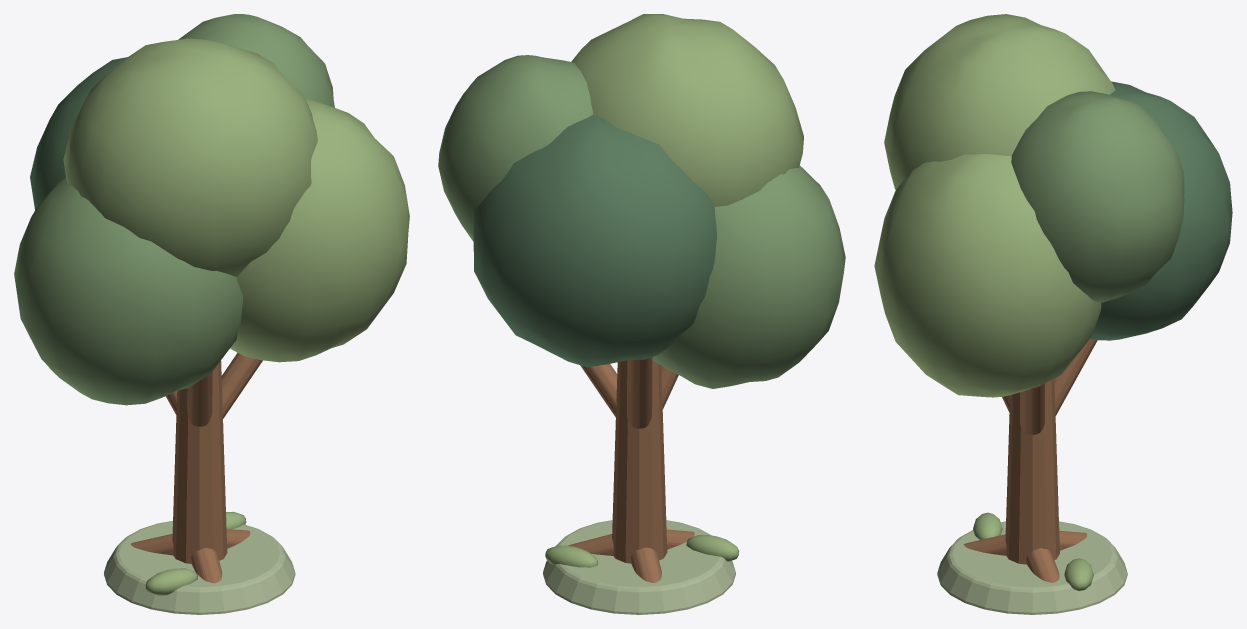
File: round_tree.glb
3 renders of one model, left to right at view 1: azimuth 30°, elevation 25°; view 2: azimuth 150°, elevation 25°; view 3: azimuth 270°, elevation 25°, orthographic.
Visible parts, largest first — view 1: Tree • sculpted foliage 03, Tree • sculpted foliage 00, Tree • sculpted foliage 01, Tree • soil mound, Tree • trunk, Tree • sculpted foliage 04, Tree • sculpted foliage 02, Tree • branch, Tree • branch.002, Tree • ground leaf, Tree • root.002, Tree • root.001; view 2: Tree • sculpted foliage 02, Tree • sculpted foliage 03, Tree • sculpted foliage 00, Tree • sculpted foliage 04, Tree • soil mound, Tree • trunk, Tree • branch.001, Tree • branch, Tree • ground leaf, Tree • ground leaf.001, Tree • root.001, Tree • root; view 3: Tree • sculpted foliage 01, Tree • sculpted foliage 04, Tree • sculpted foliage 03, Tree • sculpted foliage 02, Tree • soil mound, Tree • trunk, Tree • branch, Tree • branch.001, Tree • root, Tree • ground leaf.001, Tree • ground leaf, Tree • root.002.
Part boxes in pixels (box(x1,y1,x2,y2)): Tree • sculpted foliage 03: box(63, 38, 317, 276); Tree • sculpted foliage 00: box(14, 177, 242, 405); Tree • sculpted foliage 01: box(230, 99, 409, 362); Tree • soil mound: box(104, 521, 295, 614); Tree • trunk: box(172, 360, 227, 563); Tree • sculpted foliage 04: box(178, 14, 334, 107); Tree • sculpted foliage 02: box(30, 57, 127, 210); Tree • branch: box(221, 353, 262, 418); Tree • branch.002: box(187, 372, 212, 426); Tree • ground leaf: box(145, 568, 197, 595); Tree • root.002: box(191, 548, 222, 583); Tree • root.001: box(130, 534, 173, 555); Tree • sculpted foliage 02: box(473, 114, 717, 367); Tree • sculpted foliage 03: box(571, 14, 803, 206); Tree • sculpted foliage 00: box(652, 165, 845, 388); Tree • sculpted foliage 04: box(438, 55, 592, 241); Tree • soil mound: box(543, 520, 735, 614); Tree • trunk: box(612, 360, 667, 563); Tree • branch.001: box(627, 357, 652, 428); Tree • branch: box(580, 364, 617, 417); Tree • ground leaf: box(686, 535, 739, 561); Tree • ground leaf.001: box(545, 545, 597, 567); Tree • root.001: box(631, 547, 661, 582); Tree • root: box(568, 534, 613, 555); Tree • sculpted foliage 01: box(874, 154, 1101, 397); Tree • sculpted foliage 04: box(1011, 91, 1184, 302); Tree • sculpted foliage 03: box(884, 14, 1115, 189); Tree • sculpted foliage 02: box(1089, 81, 1232, 340); Tree • soil mound: box(937, 521, 1127, 614); Tree • trunk: box(1005, 379, 1059, 564); Tree • branch: box(1020, 383, 1044, 434); Tree • branch.001: box(1054, 339, 1097, 415); Tree • root: box(1026, 548, 1059, 582); Tree • ground leaf.001: box(1064, 558, 1093, 590); Tree • ground leaf: box(973, 512, 1002, 539); Tree • root.002: box(963, 534, 1006, 555).
Bounding box in the file's own units: 2.2 × 3.19 × 1.92.
